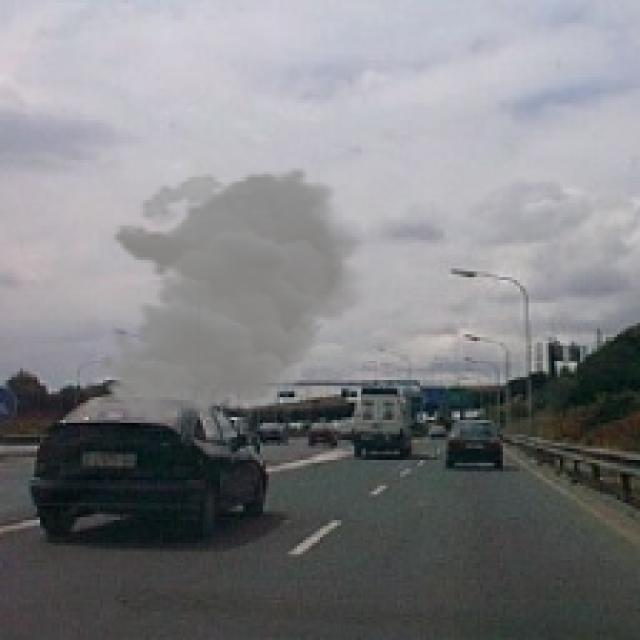smoke: (97, 166, 374, 423)
